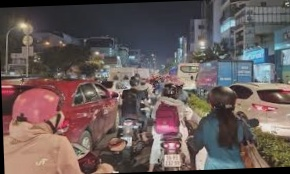Bien-so: (164, 153, 182, 167), (121, 136, 133, 147)
